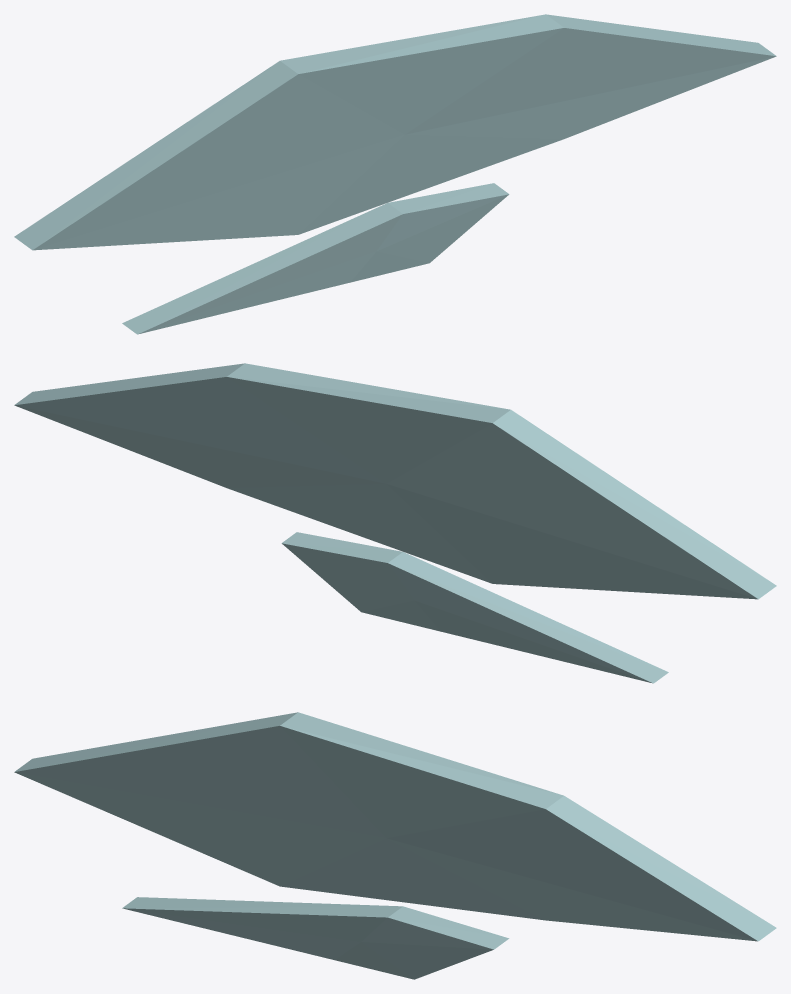
File: corriente_mota.glb
3 views of the same model, one above another, from view 1: azimuth 30°, elevation 25°; view 2: azimuth 150°, elevation 25°; view 3: azimuth 330°, elevation 25° (orthographic).
Parts seen in each view (by area): view 1: corriente_mota; view 2: corriente_mota; view 3: corriente_mota.
Part boxes in pixels (<box>): corriente_mota: <box>14,14,776,334</box>; corriente_mota: <box>14,363,776,683</box>; corriente_mota: <box>14,712,776,979</box>.
Size of the model in its own units: 1.4 by 0.4 by 0.06.
